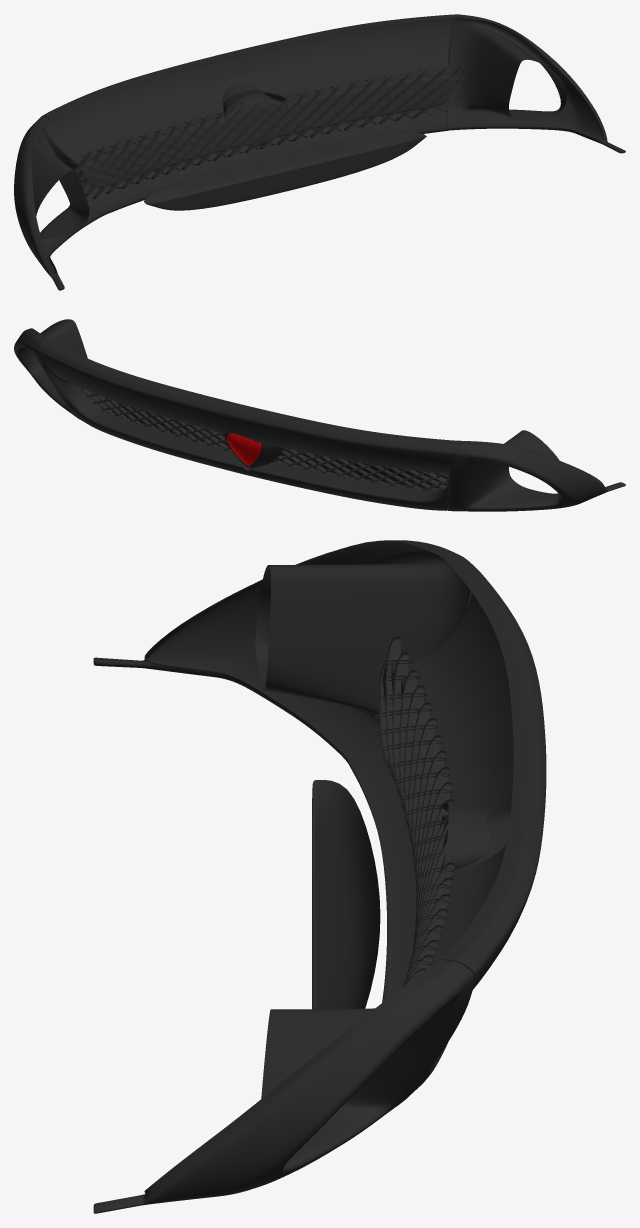
The model's file is BackBumper.fbx.
The picture shows the model from 3 angles, top to bottom: view 1: azimuth 30°, elevation 25°; view 2: azimuth 150°, elevation 25°; view 3: azimuth 270°, elevation 25°; orthographic projection. The views are drawn at different scales.
Visible parts, largest first — view 1: Back bumper; view 2: Back bumper; view 3: Back bumper.
Boxes of the visible parts, box(x1,y1,x2,y2) form: Back bumper: box(14, 14, 625, 290); Back bumper: box(14, 319, 625, 511); Back bumper: box(93, 540, 546, 1213).
Bounding box in the file's own units: 2062 × 348 × 713.
